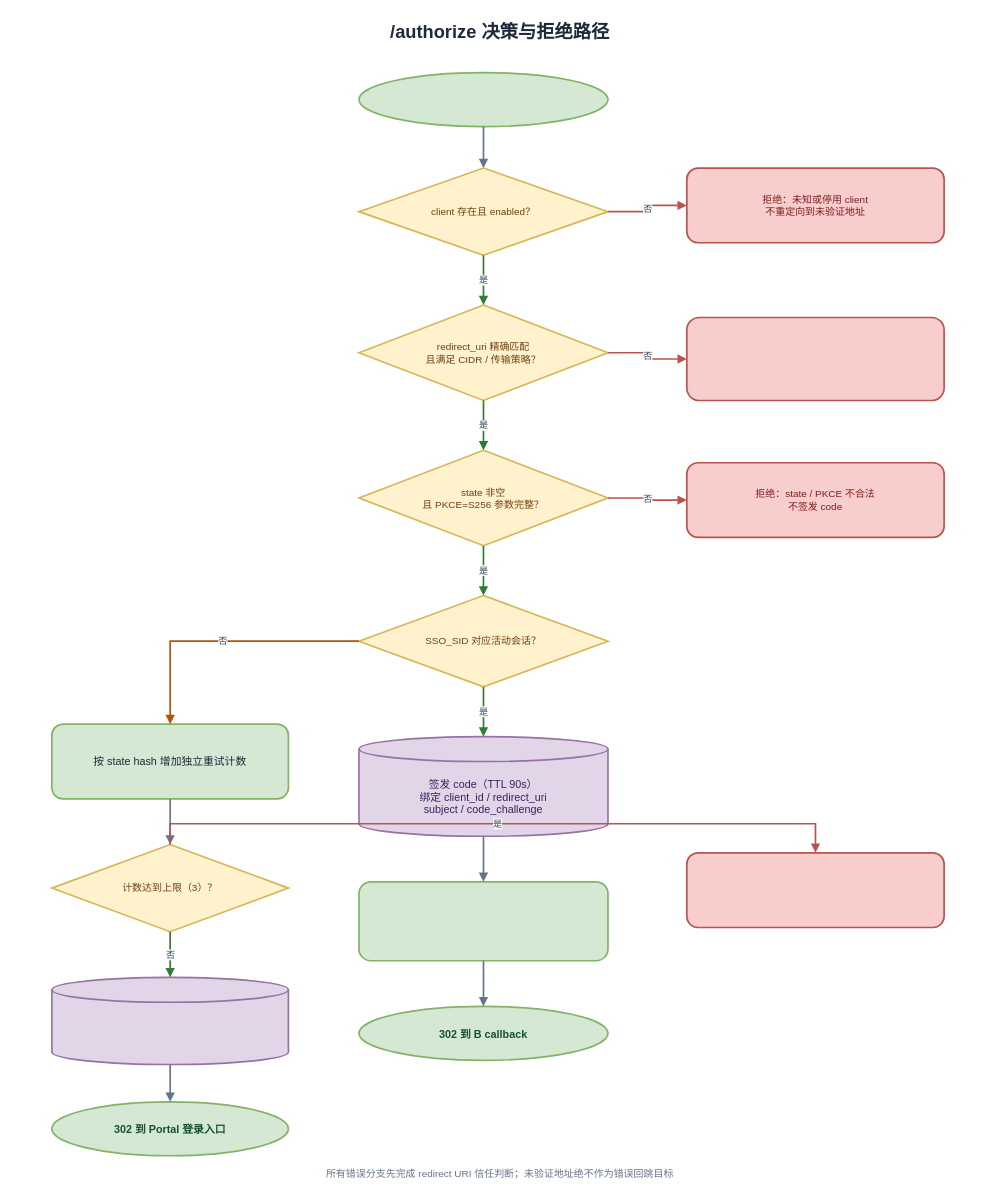
The diagram is 999 pixels wide and 1198 high, and some of its shapes have lost their labels. Each missing label, with the centre of its shape:
"GET /sso/v1/authorize" belongs at (x=483, y=99).
"保存 pending（TTL 10min） 只存授权上下文，不混入计数" belongs at (x=170, y=1020).
"安全构造回调 URI 追加 code + 原 state" belongs at (x=483, y=921).
"拒绝：redirect / 来源 / 传输不合法 不重定向" belongs at (x=815, y=358).
"拒绝：循环登录次数超限 返回稳定错误页" belongs at (x=815, y=890).
